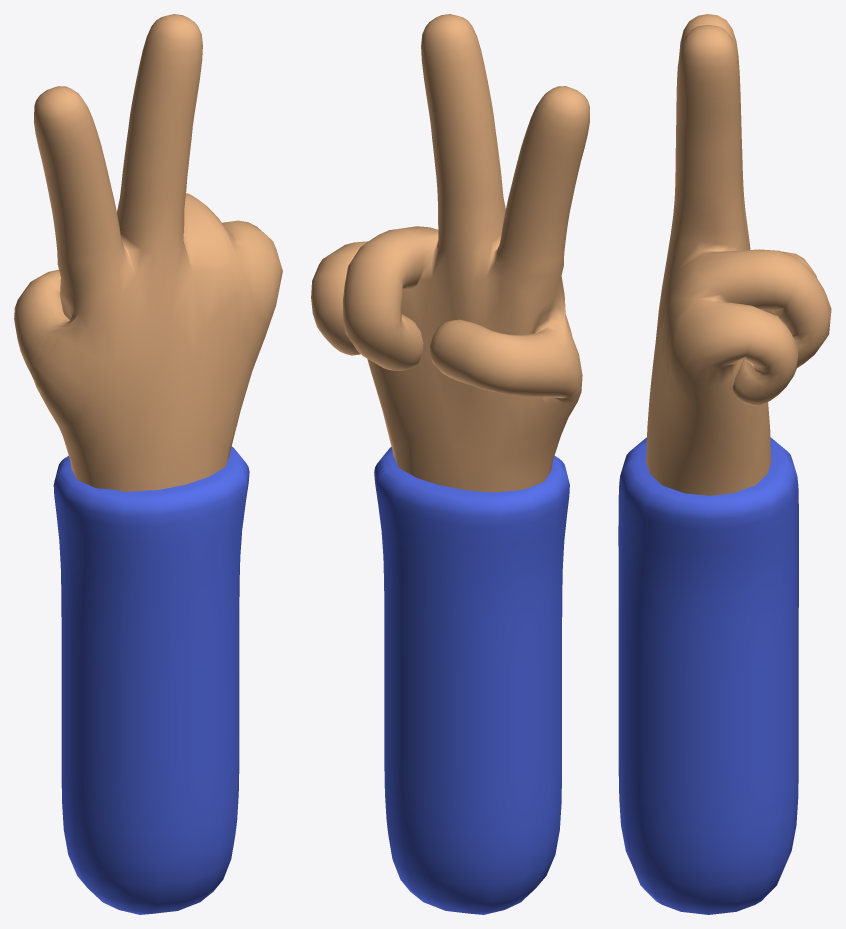
Rendered from scissors.glb.
The picture shows the model from 3 angles, left to right: view 1: azimuth 30°, elevation 25°; view 2: azimuth 150°, elevation 25°; view 3: azimuth 270°, elevation 25°; orthographic projection.
Visible parts, largest first — view 1: Cube.001, Sleeve.001; view 2: Cube.001, Sleeve.001; view 3: Sleeve.001, Cube.001.
Boxes of the visible parts, left/top/right/bottom form: Cube.001: left=14, top=14, right=282, bottom=491; Sleeve.001: left=53, top=446, right=249, bottom=914; Cube.001: left=311, top=14, right=589, bottom=492; Sleeve.001: left=374, top=447, right=569, bottom=914; Sleeve.001: left=618, top=437, right=798, bottom=914; Cube.001: left=646, top=14, right=831, bottom=495.
Bounding box in the file's own units: 6.11 × 20.84 × 4.52.
